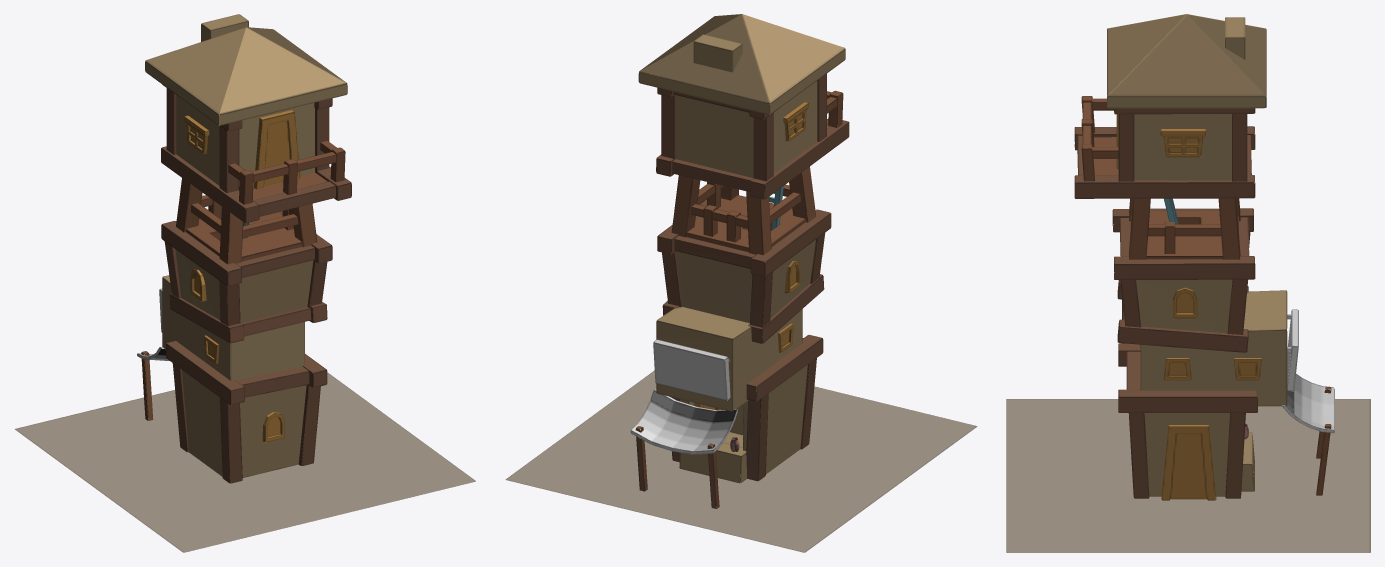
The model's file is ETC0610057.fbx.
3 views of the same model, side by side, from view 1: azimuth 30°, elevation 25°; view 2: azimuth 150°, elevation 25°; view 3: azimuth 270°, elevation 25° (orthographic). The views are drawn at different scales.
Visible parts, largest first — view 1: smETC0610057; view 2: smETC0610057; view 3: smETC0610057.
Part boxes in pixels (left/top/right/bottom): smETC0610057: left=15, top=14, right=475, bottom=552; smETC0610057: left=505, top=14, right=977, bottom=552; smETC0610057: left=1006, top=14, right=1370, bottom=552.
Bounding box in the file's own units: 1092 × 1530 × 1092.
Materials: 1 (1 with a texture image).
